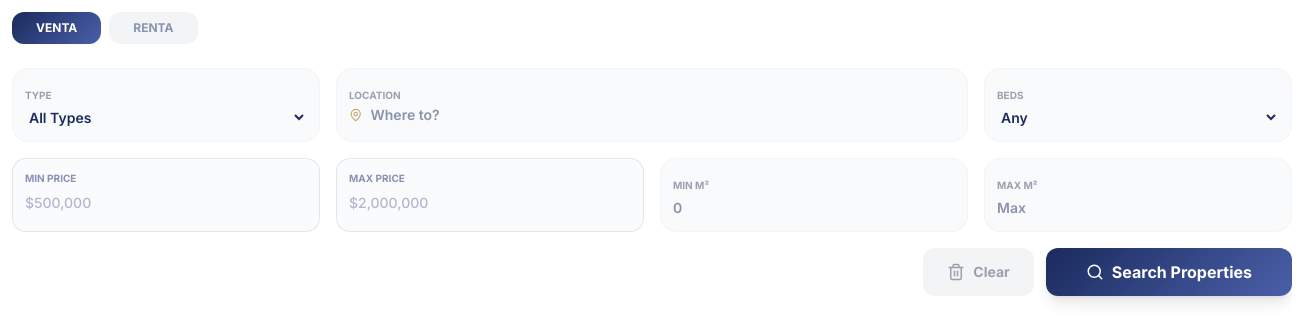
Scenario: FiltrosBusqueda Component › debe limpiar el campo al hacer click en el boton de limpiar
Type "Morelia" into the field with placeholder "Where to?" at [663, 115], box [370,105,955,125]
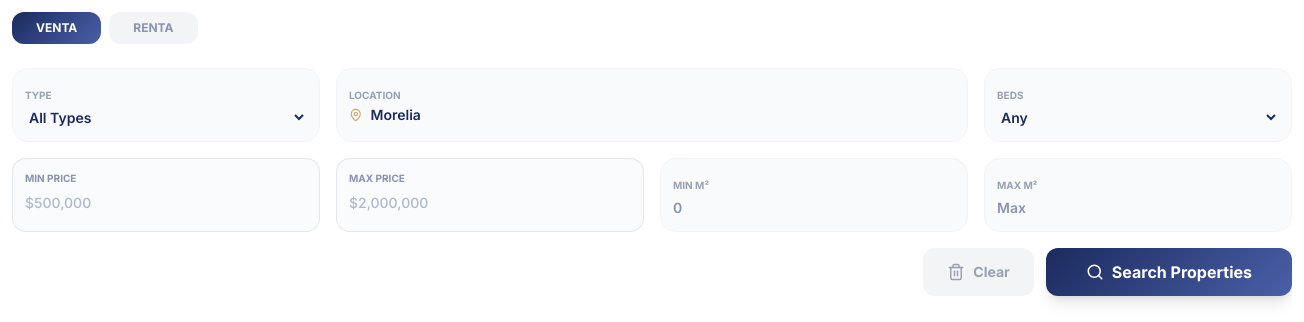
Click the button "Clear" at [979, 272], box [923,248,1034,296]
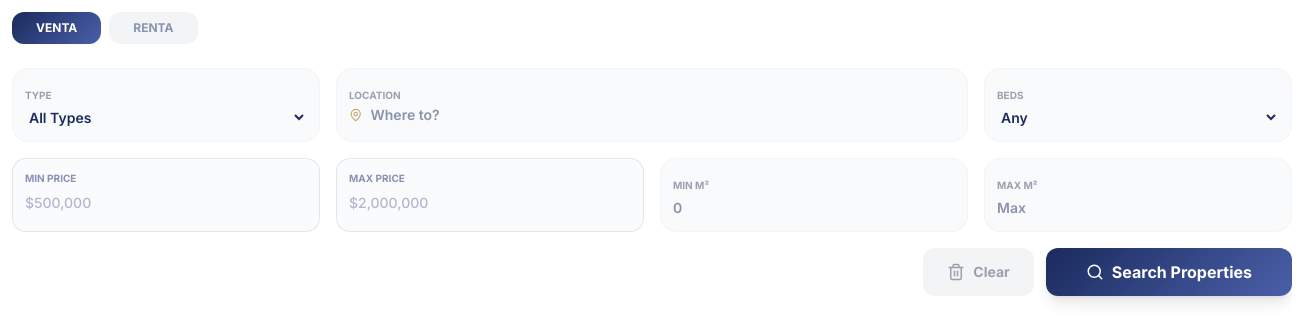
Expected: the field with placeholder "Where to?" is empty, [370,105,955,125]
